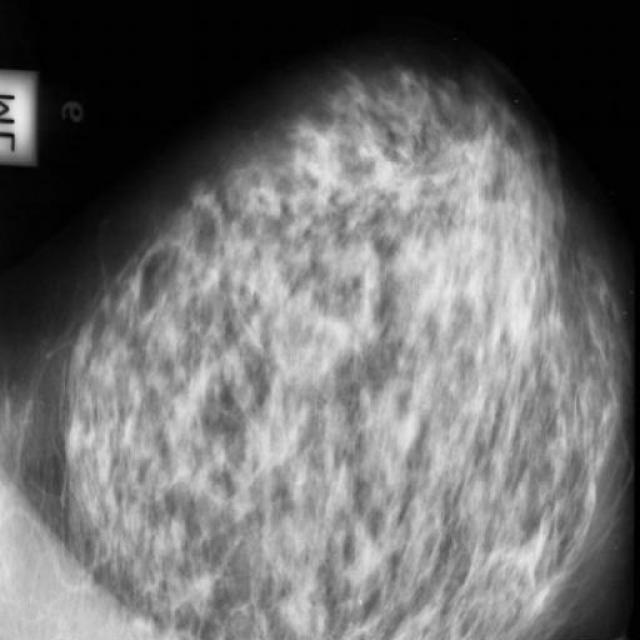cancer: (290, 538, 339, 612)
